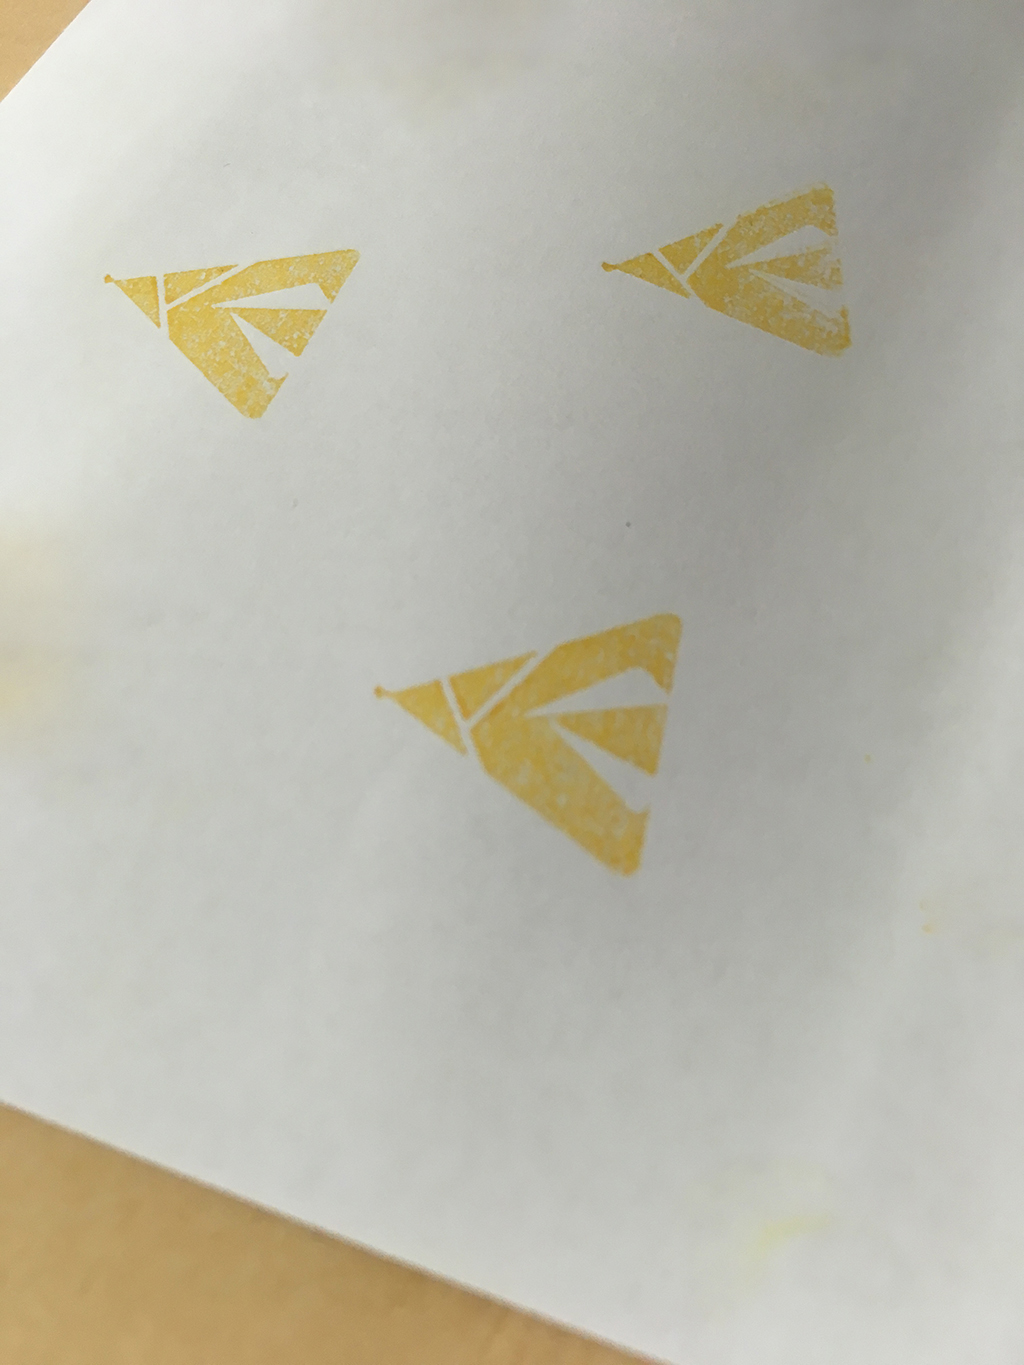tent: (350, 594, 713, 892), (79, 224, 382, 431), (577, 174, 878, 362)
